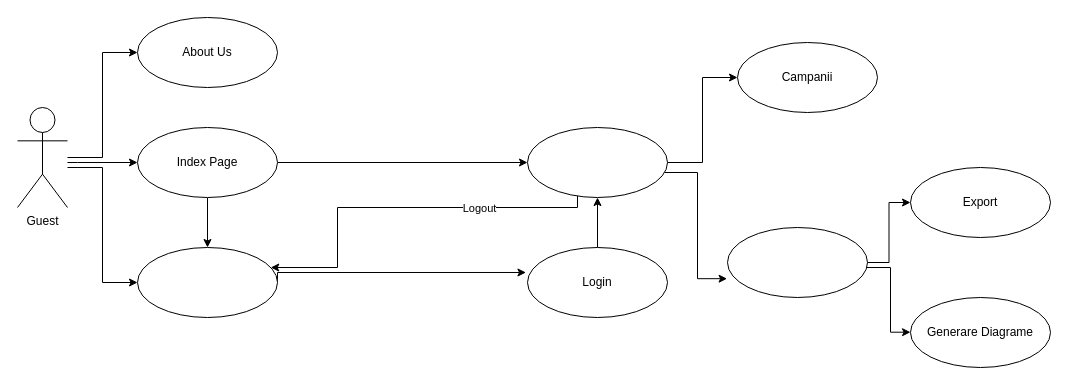
This 1068x385 diagram has some shape labels left out. The centre of each missing label's shape, as x and y in pixels:
"Dashboard Page" belongs at (x=597, y=162).
"SignUp Page" belongs at (x=207, y=282).
"Statistici" belongs at (x=797, y=262).
